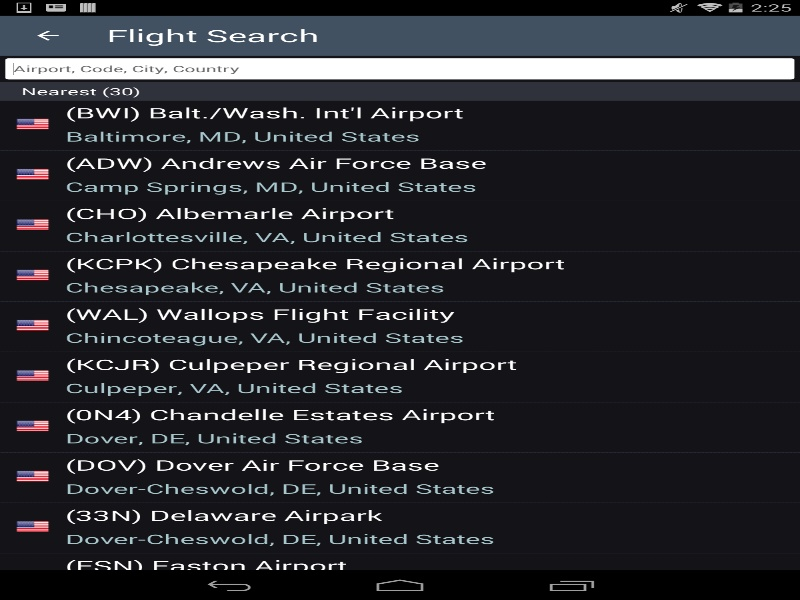Button: (46, 401, 753, 424), (10, 15, 85, 55), (46, 298, 100, 323)
Input: (13, 58, 742, 79)
